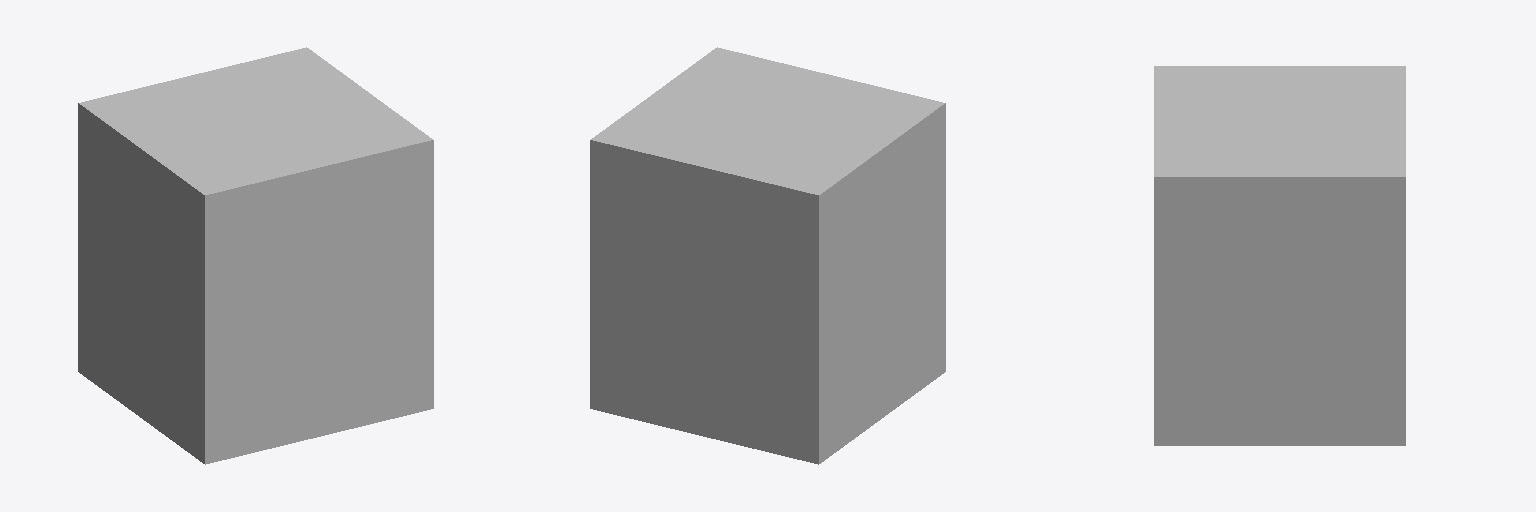
File: tapak1 ijo polos.obj
The picture shows the model from 3 angles: view 1: azimuth 30°, elevation 25°; view 2: azimuth 150°, elevation 25°; view 3: azimuth 270°, elevation 25°; orthographic projection.
Bounding box in the file's own units: 24 × 27 × 23.